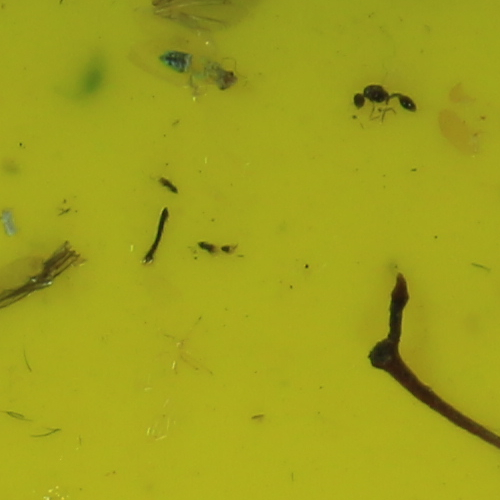psylla: (159, 49, 237, 92)
